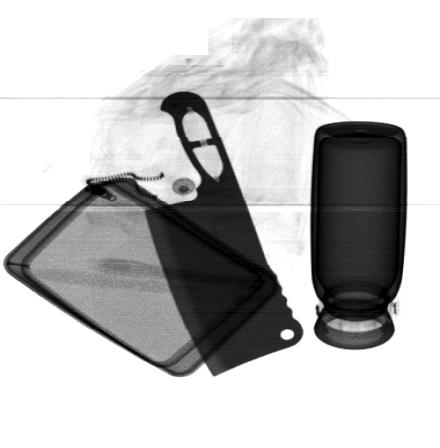Knife: (142, 90, 305, 378)
